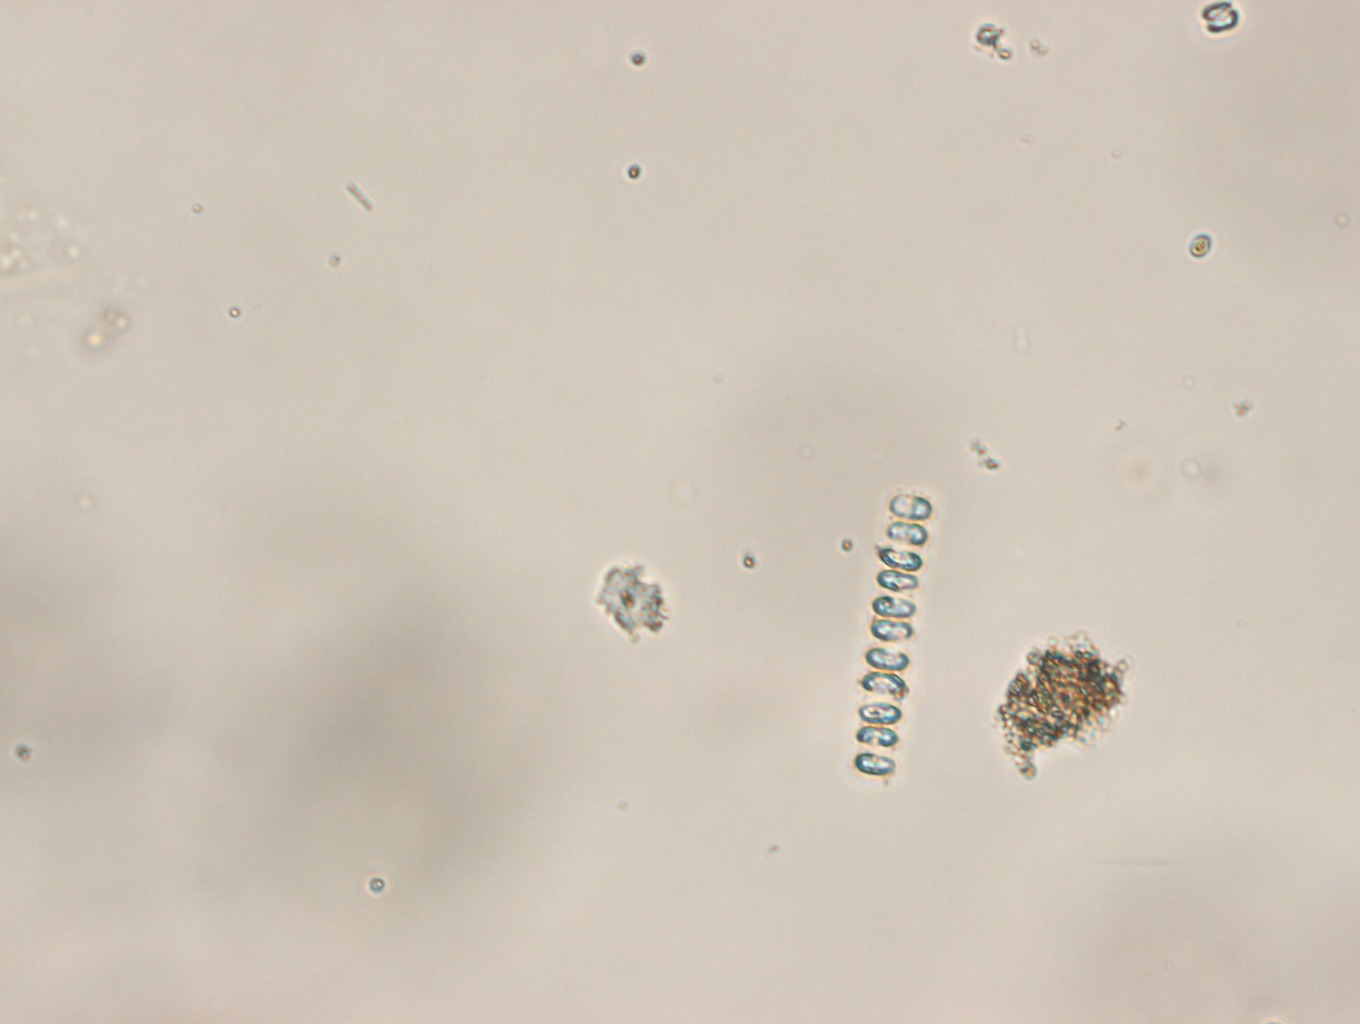skeletonema: (853, 490, 932, 780)
